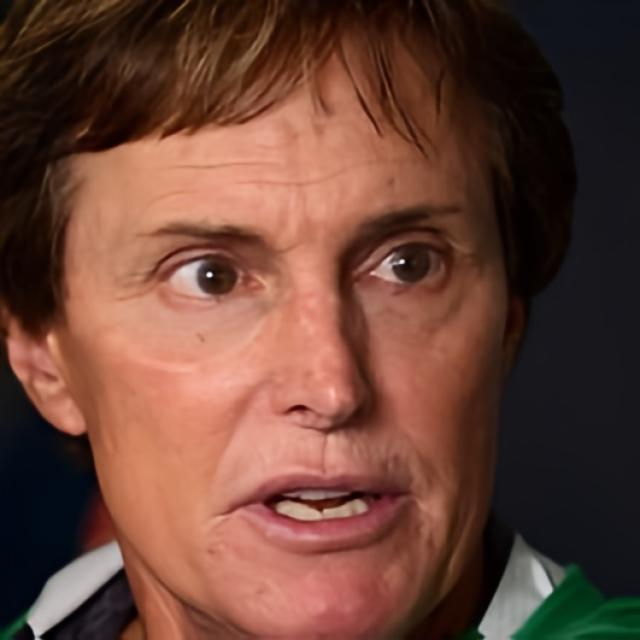Fear: (46, 0, 512, 640)
